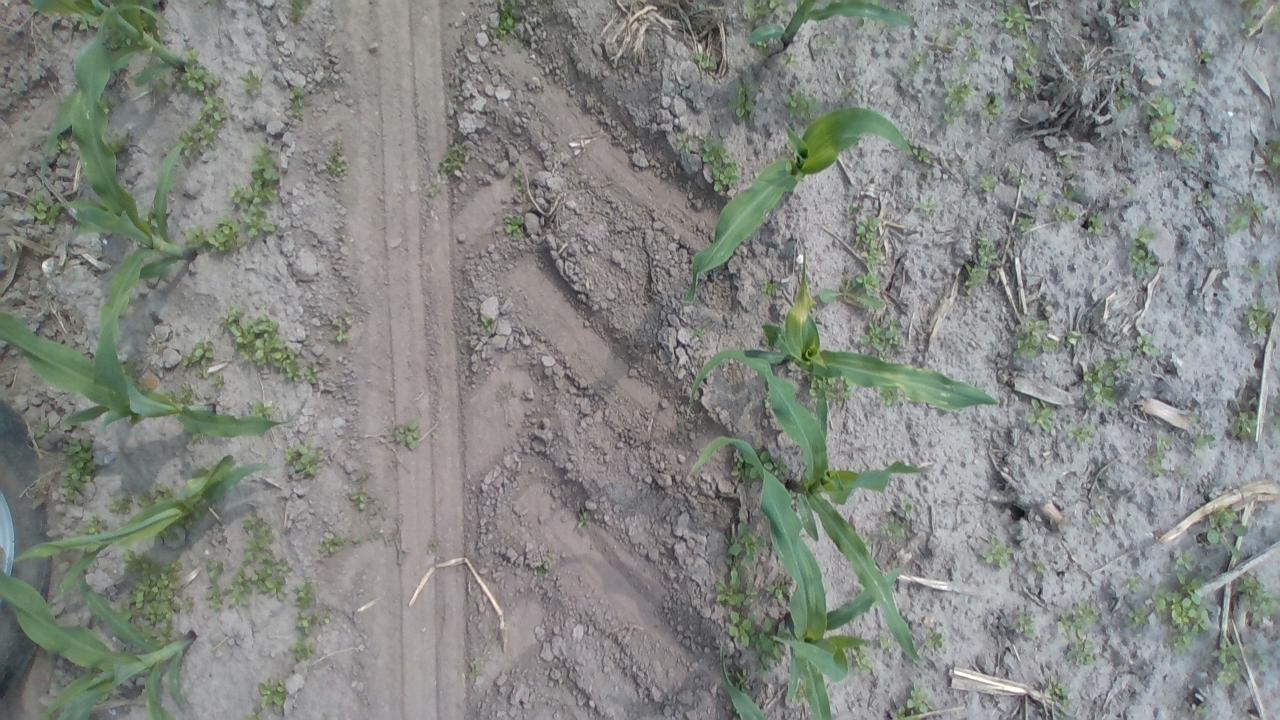Maize: (692, 348, 932, 664), (52, 16, 200, 416), (692, 433, 896, 720), (686, 266, 1002, 417), (686, 108, 922, 305), (2, 305, 303, 437), (13, 454, 275, 594), (0, 573, 197, 720), (34, 0, 188, 176), (749, 0, 916, 50), (718, 644, 770, 720)
Weeds: (226, 310, 320, 382), (120, 553, 194, 642), (228, 144, 282, 244), (1152, 567, 1210, 652), (226, 556, 289, 608), (178, 94, 230, 154), (818, 270, 885, 312), (1082, 352, 1132, 408), (60, 437, 100, 503), (848, 204, 888, 270), (1206, 505, 1251, 561), (698, 134, 741, 192), (192, 214, 250, 255), (743, 616, 785, 670), (712, 561, 756, 609), (1238, 575, 1280, 621), (492, 0, 529, 51), (940, 69, 973, 123), (726, 522, 768, 564), (1212, 638, 1248, 686), (240, 512, 273, 564), (1012, 317, 1052, 359), (1147, 94, 1177, 150), (1013, 38, 1039, 102), (1128, 225, 1159, 277), (1226, 196, 1266, 236), (1146, 436, 1184, 475), (283, 442, 323, 479), (860, 318, 900, 355), (893, 686, 936, 720), (1056, 602, 1098, 636), (807, 375, 858, 403), (180, 60, 222, 92), (1039, 678, 1070, 720), (1244, 0, 1280, 35), (1232, 396, 1260, 440), (182, 340, 218, 374), (1243, 297, 1274, 336), (255, 678, 288, 712), (28, 196, 62, 228), (322, 140, 352, 176), (296, 612, 341, 635), (998, 3, 1031, 34), (439, 142, 467, 178), (983, 536, 1013, 569), (1065, 636, 1096, 667), (785, 88, 817, 118), (730, 83, 756, 119), (728, 611, 756, 644), (742, 0, 784, 22), (730, 451, 759, 482), (1028, 397, 1054, 430), (136, 484, 170, 509), (758, 450, 788, 478), (1065, 420, 1097, 446), (924, 628, 953, 656), (880, 512, 909, 540), (396, 418, 421, 450), (236, 68, 264, 96), (1012, 612, 1038, 642), (204, 586, 230, 616), (963, 262, 989, 290), (103, 28, 130, 54), (510, 162, 530, 197), (1262, 140, 1280, 178), (288, 86, 308, 120), (1242, 257, 1270, 281), (976, 238, 998, 268), (1254, 648, 1278, 674), (1124, 605, 1148, 630), (878, 386, 902, 411), (332, 315, 352, 344), (980, 94, 1004, 118), (1136, 332, 1160, 356), (1174, 550, 1196, 576), (1194, 44, 1216, 70), (286, 0, 309, 24), (766, 576, 789, 600), (1177, 142, 1202, 164), (851, 646, 873, 671), (295, 580, 316, 606), (908, 49, 928, 76), (107, 131, 129, 155), (1190, 432, 1216, 452), (696, 50, 719, 72), (502, 214, 524, 237), (1004, 167, 1028, 188), (1178, 404, 1204, 423), (919, 198, 946, 216), (318, 532, 340, 554), (291, 640, 314, 661), (1052, 203, 1076, 223), (537, 552, 557, 576), (1086, 215, 1106, 238), (349, 490, 372, 510), (1114, 86, 1131, 113), (1124, 574, 1144, 596), (760, 280, 783, 299), (351, 532, 382, 546), (1192, 702, 1216, 720), (979, 170, 997, 194), (120, 356, 138, 380), (1178, 75, 1198, 96), (98, 92, 119, 112), (574, 509, 594, 530), (82, 516, 105, 534), (675, 132, 693, 155), (74, 14, 98, 31), (1270, 392, 1280, 432), (108, 495, 128, 515), (478, 312, 496, 334), (166, 389, 194, 403), (153, 80, 170, 103), (184, 510, 205, 528), (206, 560, 224, 581), (874, 628, 891, 650), (153, 528, 179, 542), (1064, 330, 1084, 348), (142, 208, 160, 228), (51, 135, 66, 158), (964, 43, 983, 61), (1087, 511, 1105, 530), (251, 402, 271, 419), (953, 21, 973, 38), (914, 146, 934, 163), (1014, 217, 1032, 234), (467, 659, 484, 677), (36, 420, 51, 440), (1033, 559, 1050, 576), (211, 376, 228, 393), (839, 88, 863, 100), (781, 55, 802, 68), (1032, 187, 1048, 204), (692, 326, 708, 342), (754, 38, 769, 54), (1196, 190, 1211, 206), (428, 185, 446, 198), (428, 541, 443, 554), (1054, 154, 1073, 164), (1060, 189, 1076, 199), (1124, 0, 1140, 9), (1120, 185, 1132, 195), (762, 397, 772, 408)
